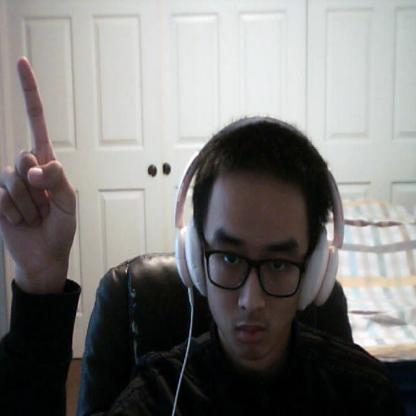finger_point: (13, 51, 59, 164)
